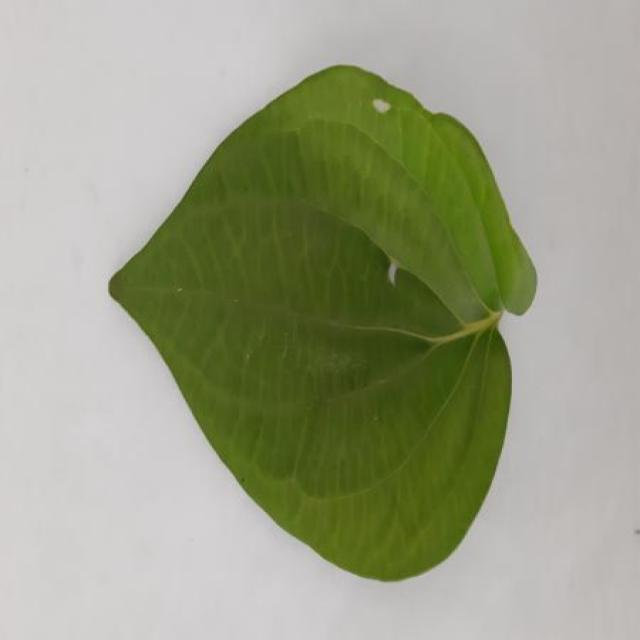betel: (110, 66, 537, 579)
